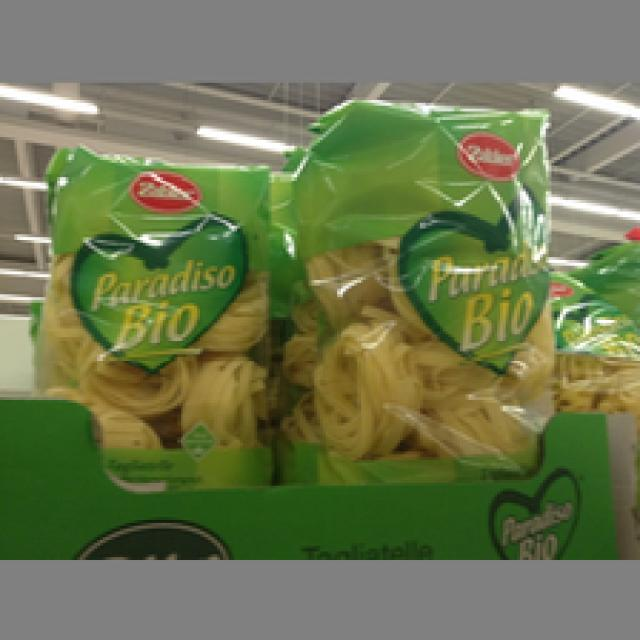groceries: (280, 91, 554, 480), (37, 143, 277, 483)
